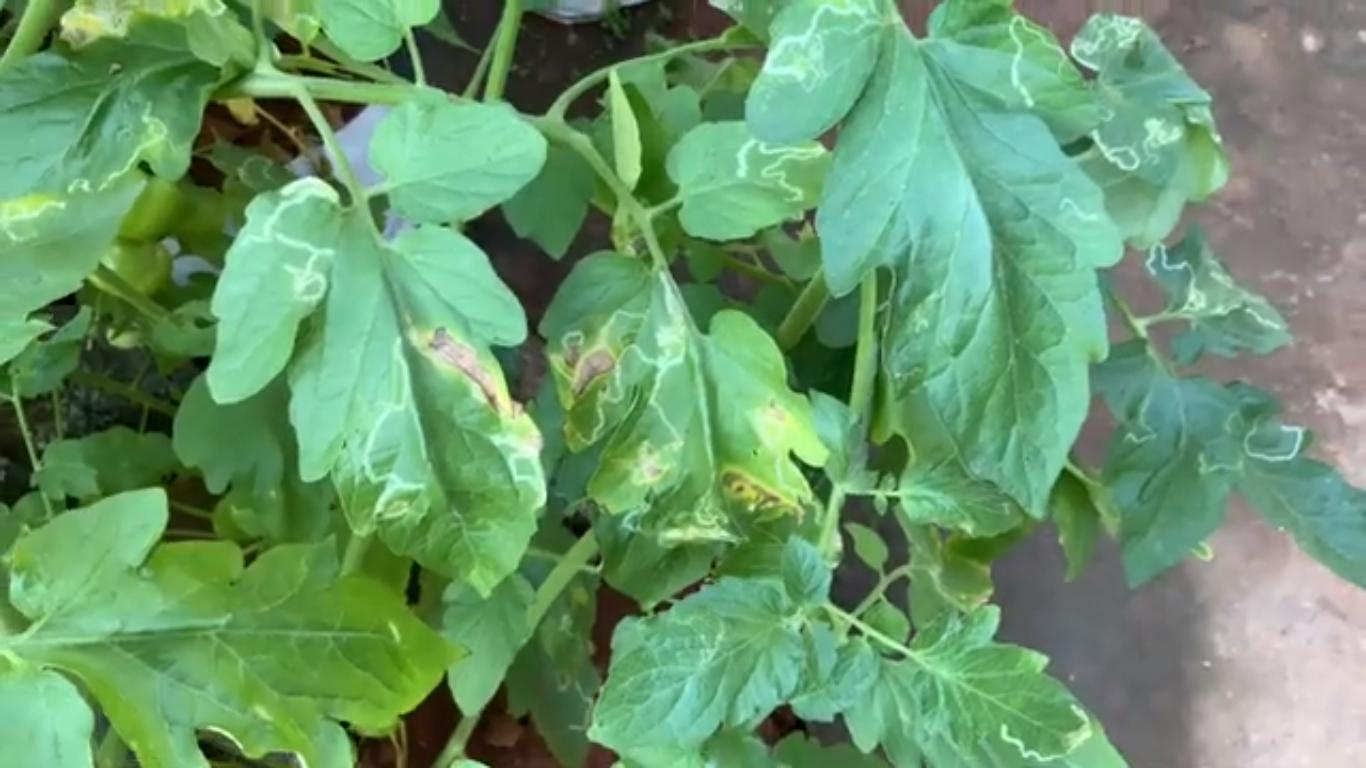Leaf_Miner: (743, 0, 1122, 520), (204, 168, 548, 604), (539, 246, 830, 604), (846, 601, 1127, 768), (1092, 334, 1247, 588), (1071, 3, 1229, 249), (1224, 379, 1366, 593), (666, 116, 834, 242), (1142, 228, 1294, 359), (64, 100, 170, 196), (549, 661, 597, 740)
